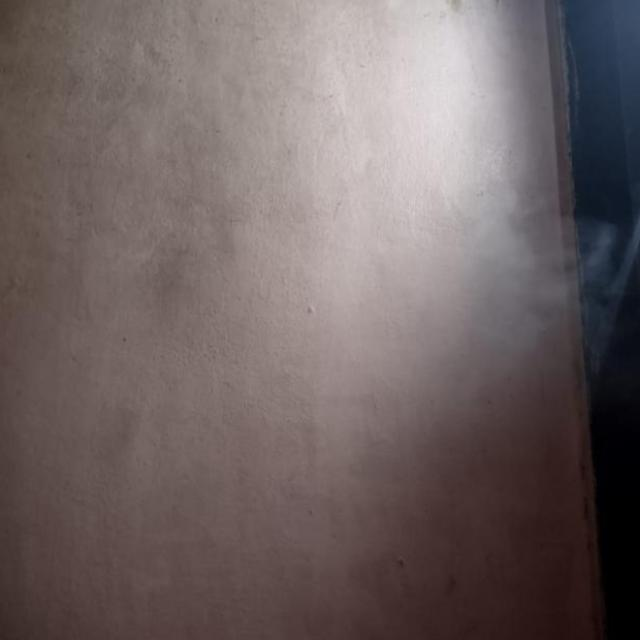fire: (158, 126, 632, 424)
